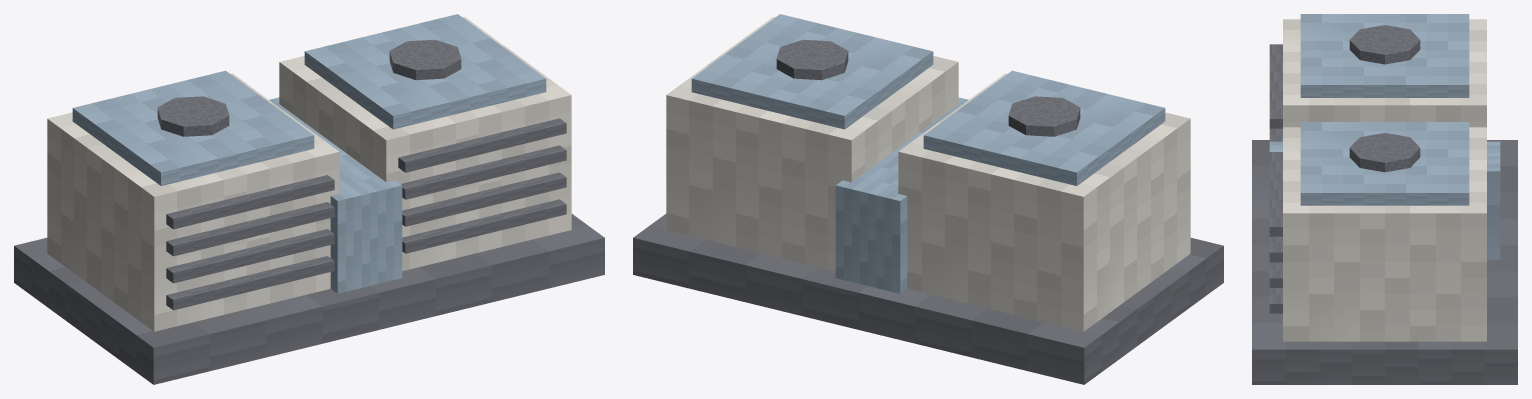
Rendered from pixel-modern-city-street-rooftop-ac-units-5e5f8b12__29017.glb.
3 renders of one model, left to right at view 1: azimuth 30°, elevation 25°; view 2: azimuth 150°, elevation 25°; view 3: azimuth 270°, elevation 25°, orthographic. The views are drawn at different scales.
Visible parts, largest first — view 1: rooftop-ac-units; view 2: rooftop-ac-units; view 3: rooftop-ac-units.
Part boxes in pixels (bbox=[...]): rooftop-ac-units: bbox=[14, 14, 604, 384]; rooftop-ac-units: bbox=[633, 14, 1223, 384]; rooftop-ac-units: bbox=[1252, 14, 1517, 384].
Bounding box in the file's own units: 2.8 × 1.16 × 1.5.
Materials: 3 (3 with a texture image).
